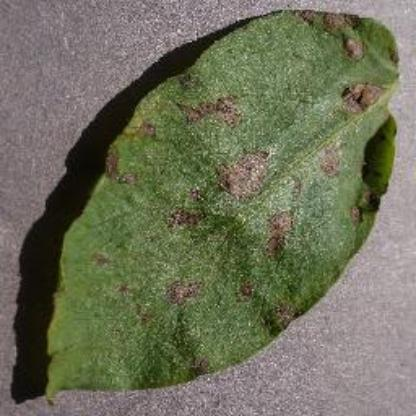Early-Blight: (30, 6, 410, 406)
